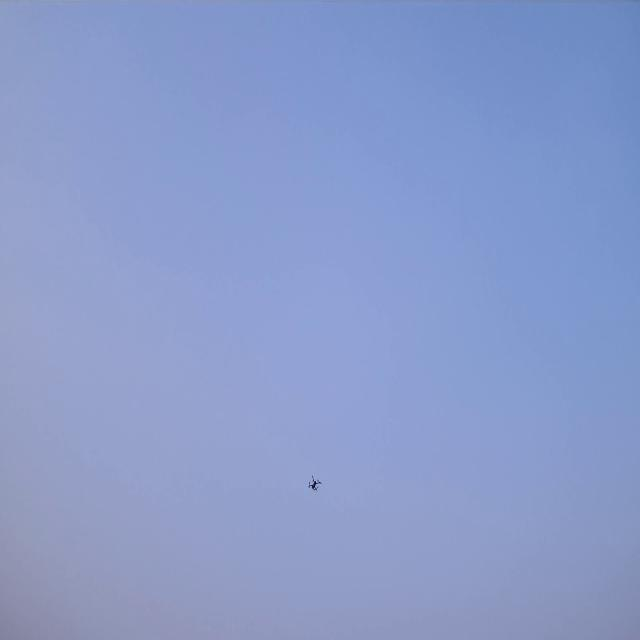UAV: (308, 475, 322, 492)
